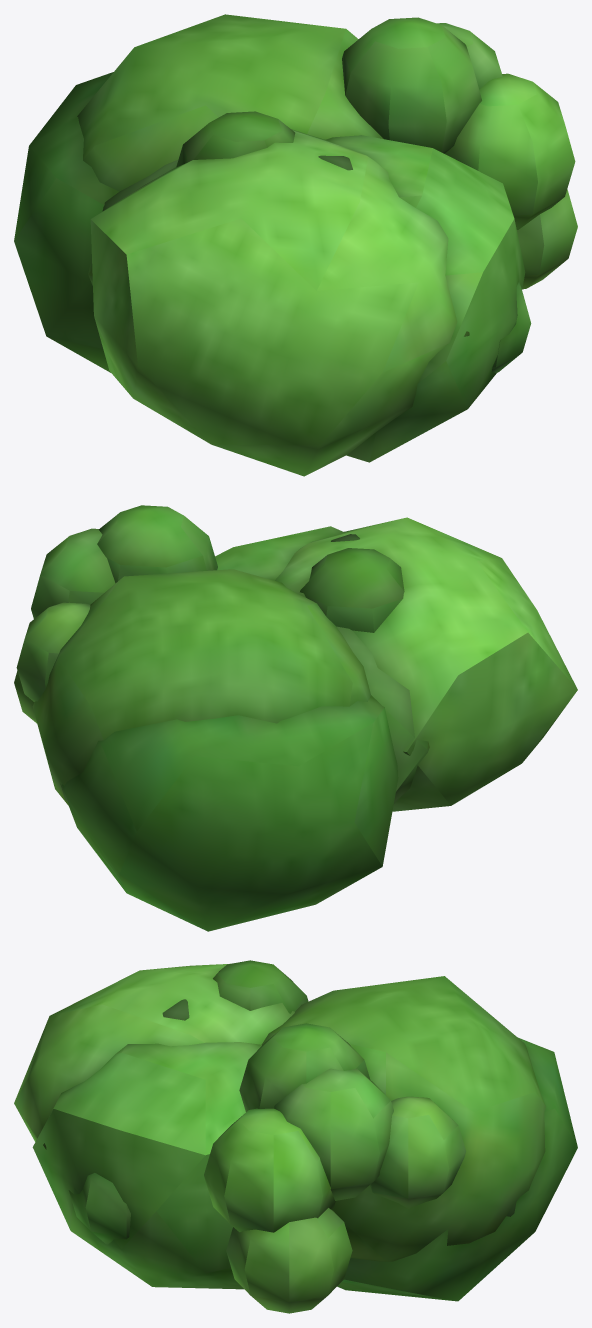
Rendered from bush_0_9.glb.
3 views of the same model, one above another, from view 1: azimuth 30°, elevation 25°; view 2: azimuth 150°, elevation 25°; view 3: azimuth 270°, elevation 25° (orthographic). The views are drawn at different scales.
Visible parts, largest first — view 1: peb; view 2: peb; view 3: peb.
Boxes of the visible parts, x1,y1,x2,y2 form: peb: (14, 14, 577, 476); peb: (14, 505, 577, 931); peb: (14, 960, 577, 1313).
Size of the model in its own units: 1.99 by 1.28 by 2.13.
Materials: 1 (1 with a texture image).
